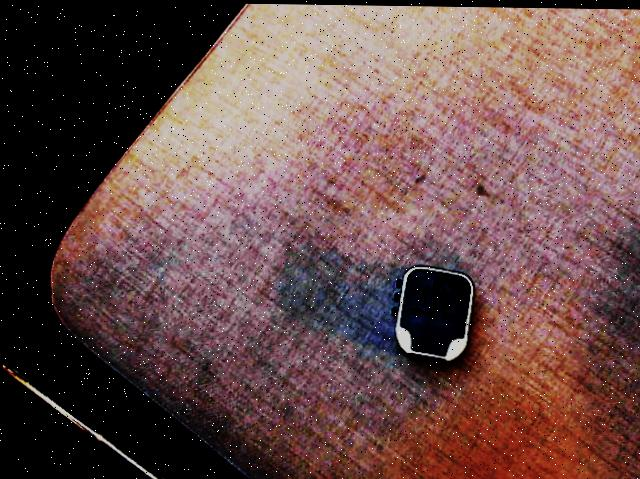adapter: (390, 264, 474, 362)
